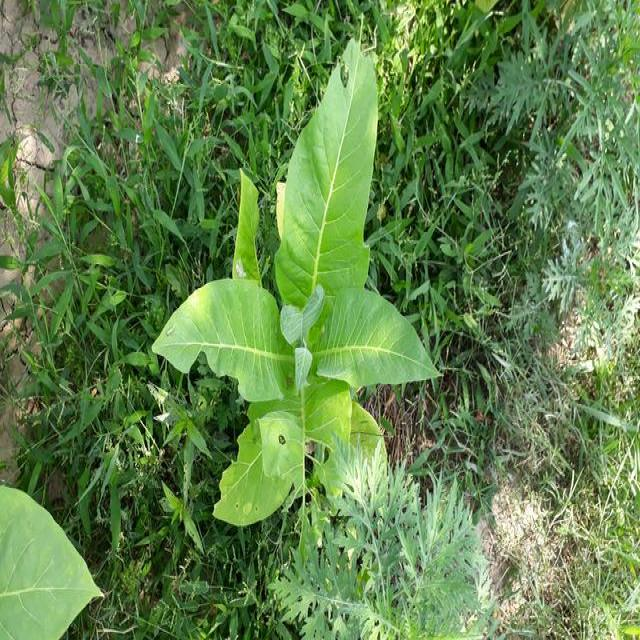crop: (158, 40, 438, 518), (0, 472, 101, 638)
